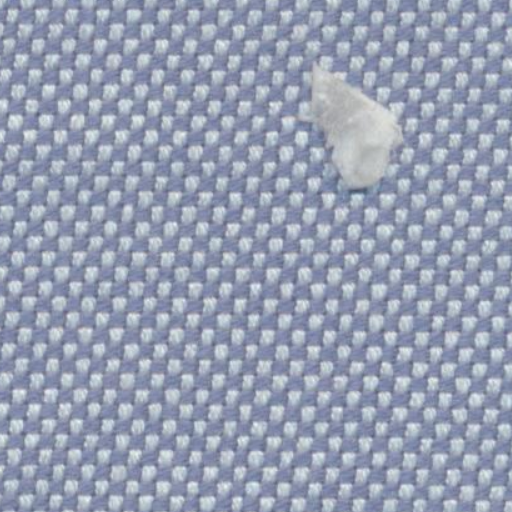MianQiu: (280, 46, 437, 218)
